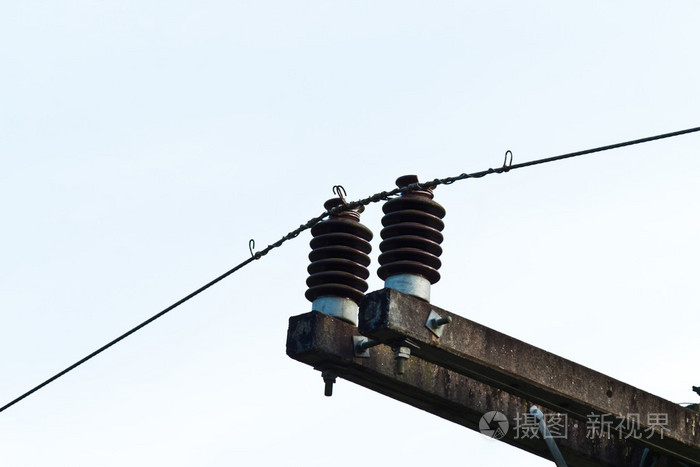insulator: (377, 197, 452, 286), (306, 219, 370, 299)
